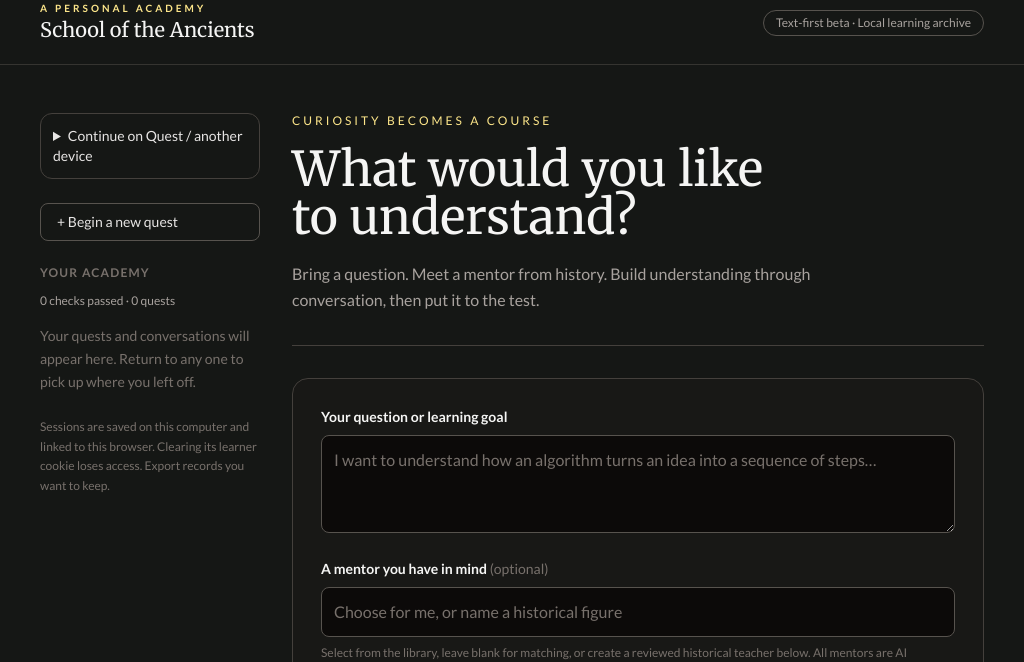
it: blocks new live requests with clear local sign-in status and supports a read-only recheck
The width and height of the screenshot is (1024, 662).
Replace the text in the text box labelled "Your question or learning goal" with "Why do stars shine?" at (638, 484), box [321, 435, 955, 533]
(page scrolled)
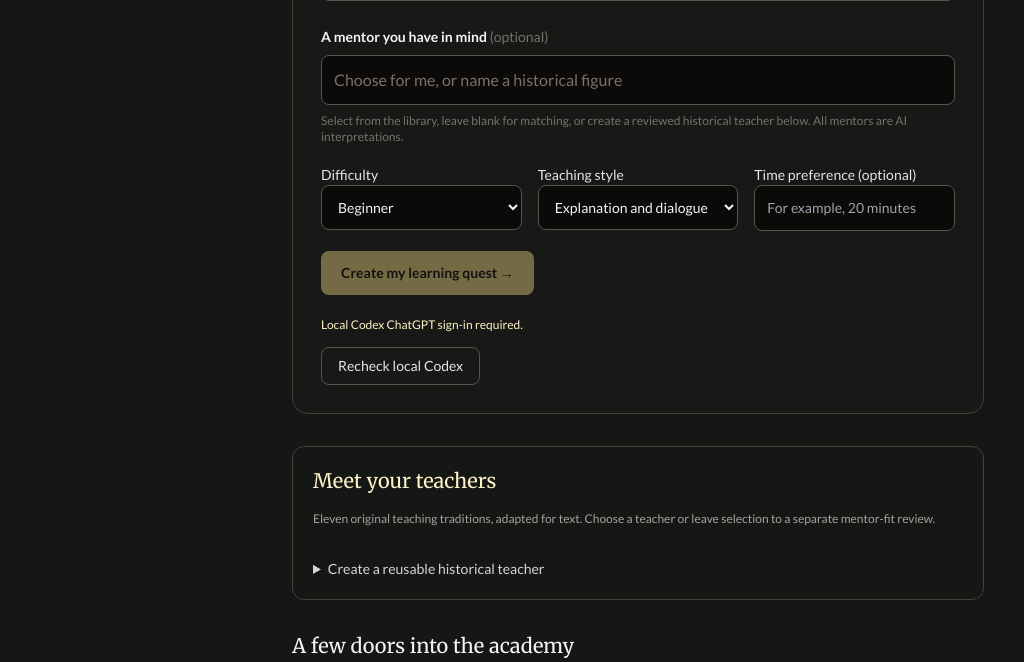
Expected: the button "Create my learning quest →" is disabled, [321, 251, 534, 295]
Click the button "Recheck local Codex" at (401, 366), box [321, 346, 480, 384]
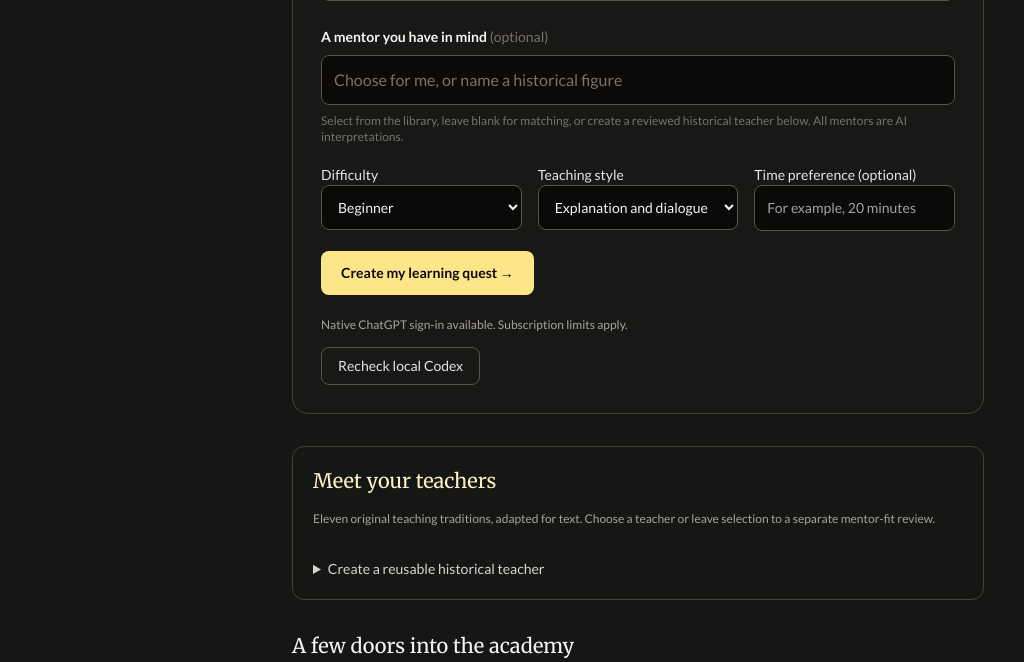
Expected: the text "Native ChatGPT sign-in available. Subscription limits apply." is shown, [321, 317, 628, 332]
Expected: the button "Create my learning quest →" is enabled, [321, 251, 534, 295]
